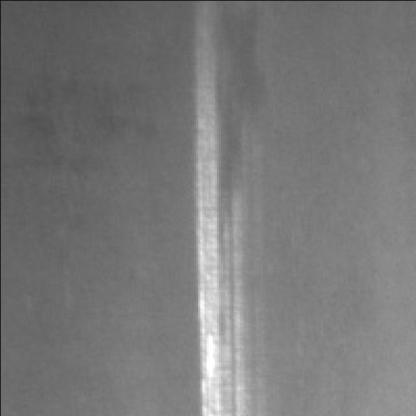scratches: (195, 64, 252, 412)
